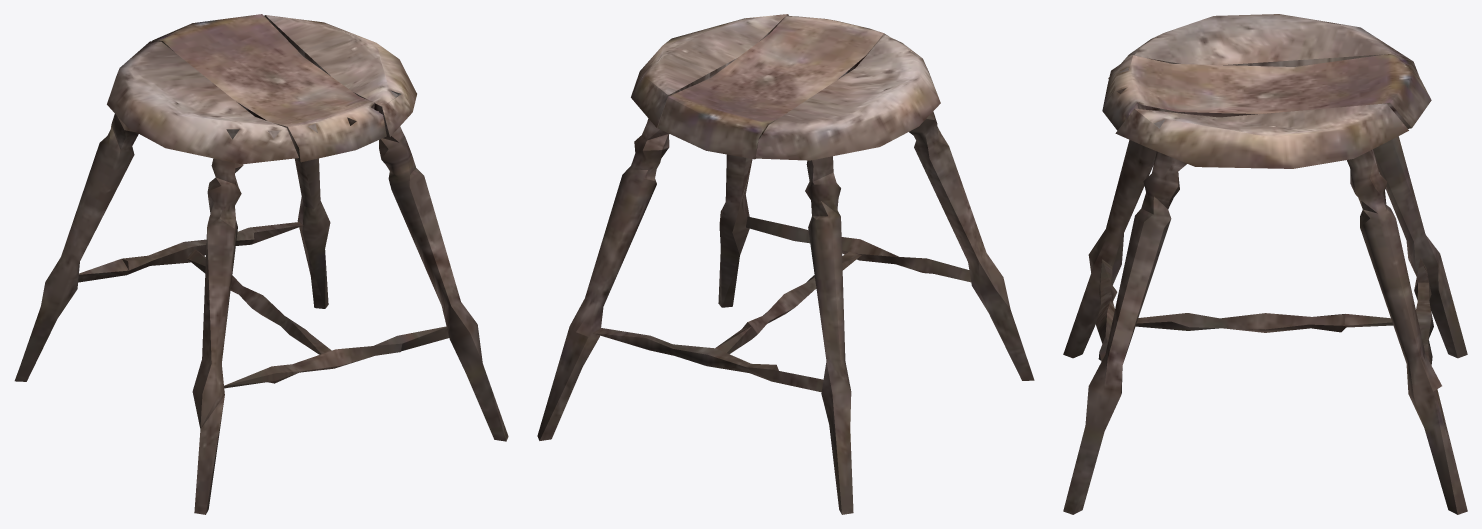
The model's file is stool.glb.
The picture shows the model from 3 angles, left to right: view 1: azimuth 30°, elevation 25°; view 2: azimuth 150°, elevation 25°; view 3: azimuth 270°, elevation 25°; orthographic projection. The views are drawn at different scales.
Visible parts, largest first — view 1: stool; view 2: stool; view 3: stool.
Boxes of the visible parts, left/top/right/bottom form: stool: left=14, top=14, right=508, bottom=514; stool: left=537, top=14, right=1034, bottom=514; stool: left=1063, top=14, right=1467, bottom=514.
Bounding box in the file's own units: 0.4262 × 0.438 × 0.4449.
Materials: 1 (1 with a texture image).
